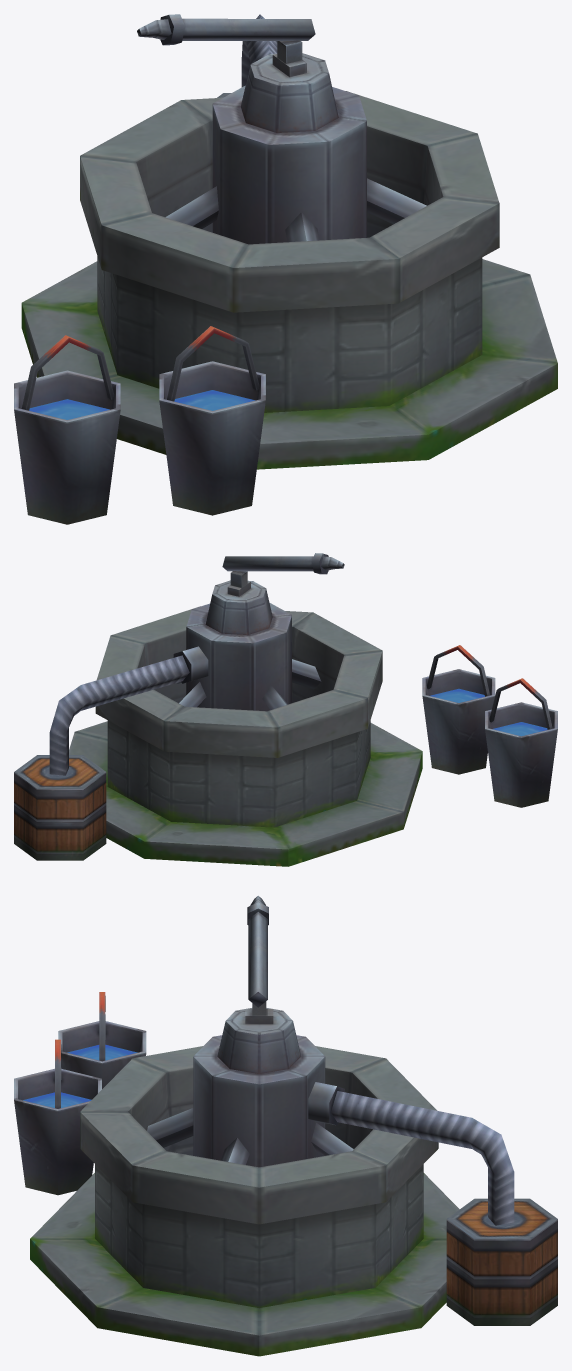
Rendered from scene_lawennushandao_shuijing01.FBX.
3 renders of one model, top to bottom at view 1: azimuth 30°, elevation 25°; view 2: azimuth 150°, elevation 25°; view 3: azimuth 270°, elevation 25°, orthographic. The views are drawn at different scales.
Visible parts, largest first — view 1: scene_lawennushandao_shuijing01; view 2: scene_lawennushandao_shuijing01; view 3: scene_lawennushandao_shuijing01.
Boxes of the visible parts, x1,y1,x2,y2 form: scene_lawennushandao_shuijing01: [14, 14, 557, 524]; scene_lawennushandao_shuijing01: [14, 553, 557, 866]; scene_lawennushandao_shuijing01: [14, 895, 557, 1356].
Size of the model in its own units: 271 by 159 by 253.
